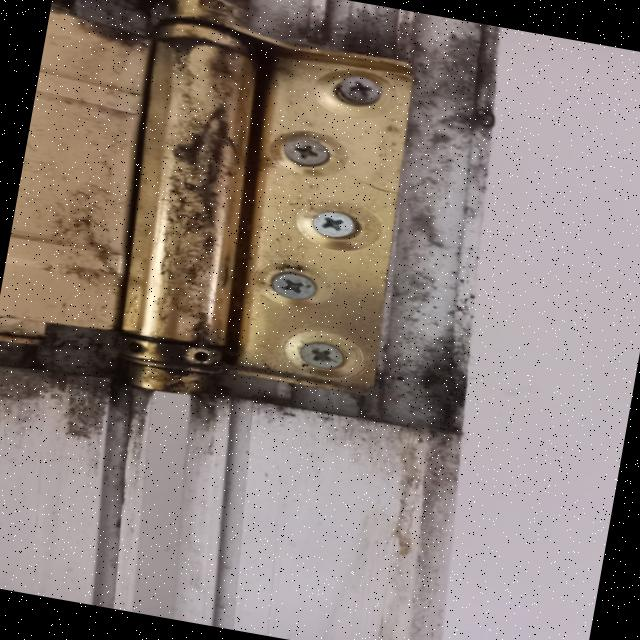Phillips: (280, 329, 370, 384), (271, 132, 349, 183), (322, 66, 394, 116), (250, 264, 330, 308), (308, 201, 370, 249)
